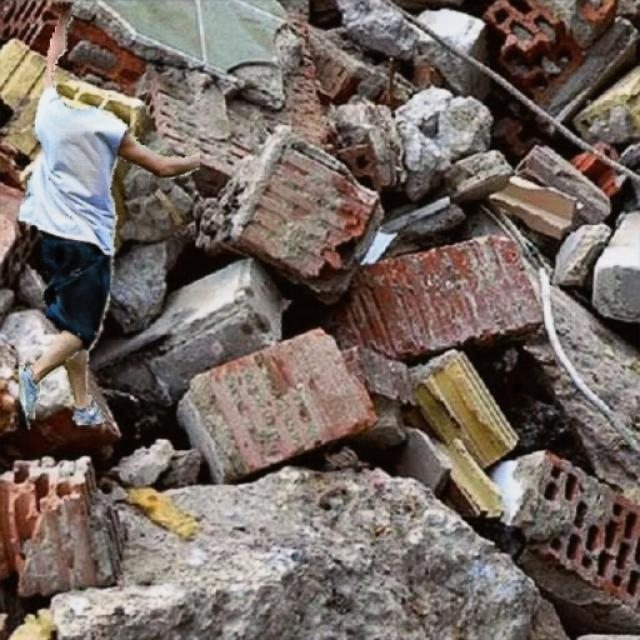Person in Rubble: (19, 2, 199, 428)
